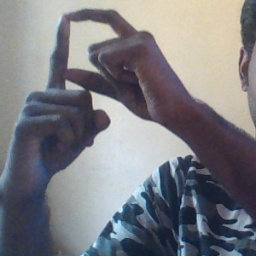D: (24, 6, 156, 125)
